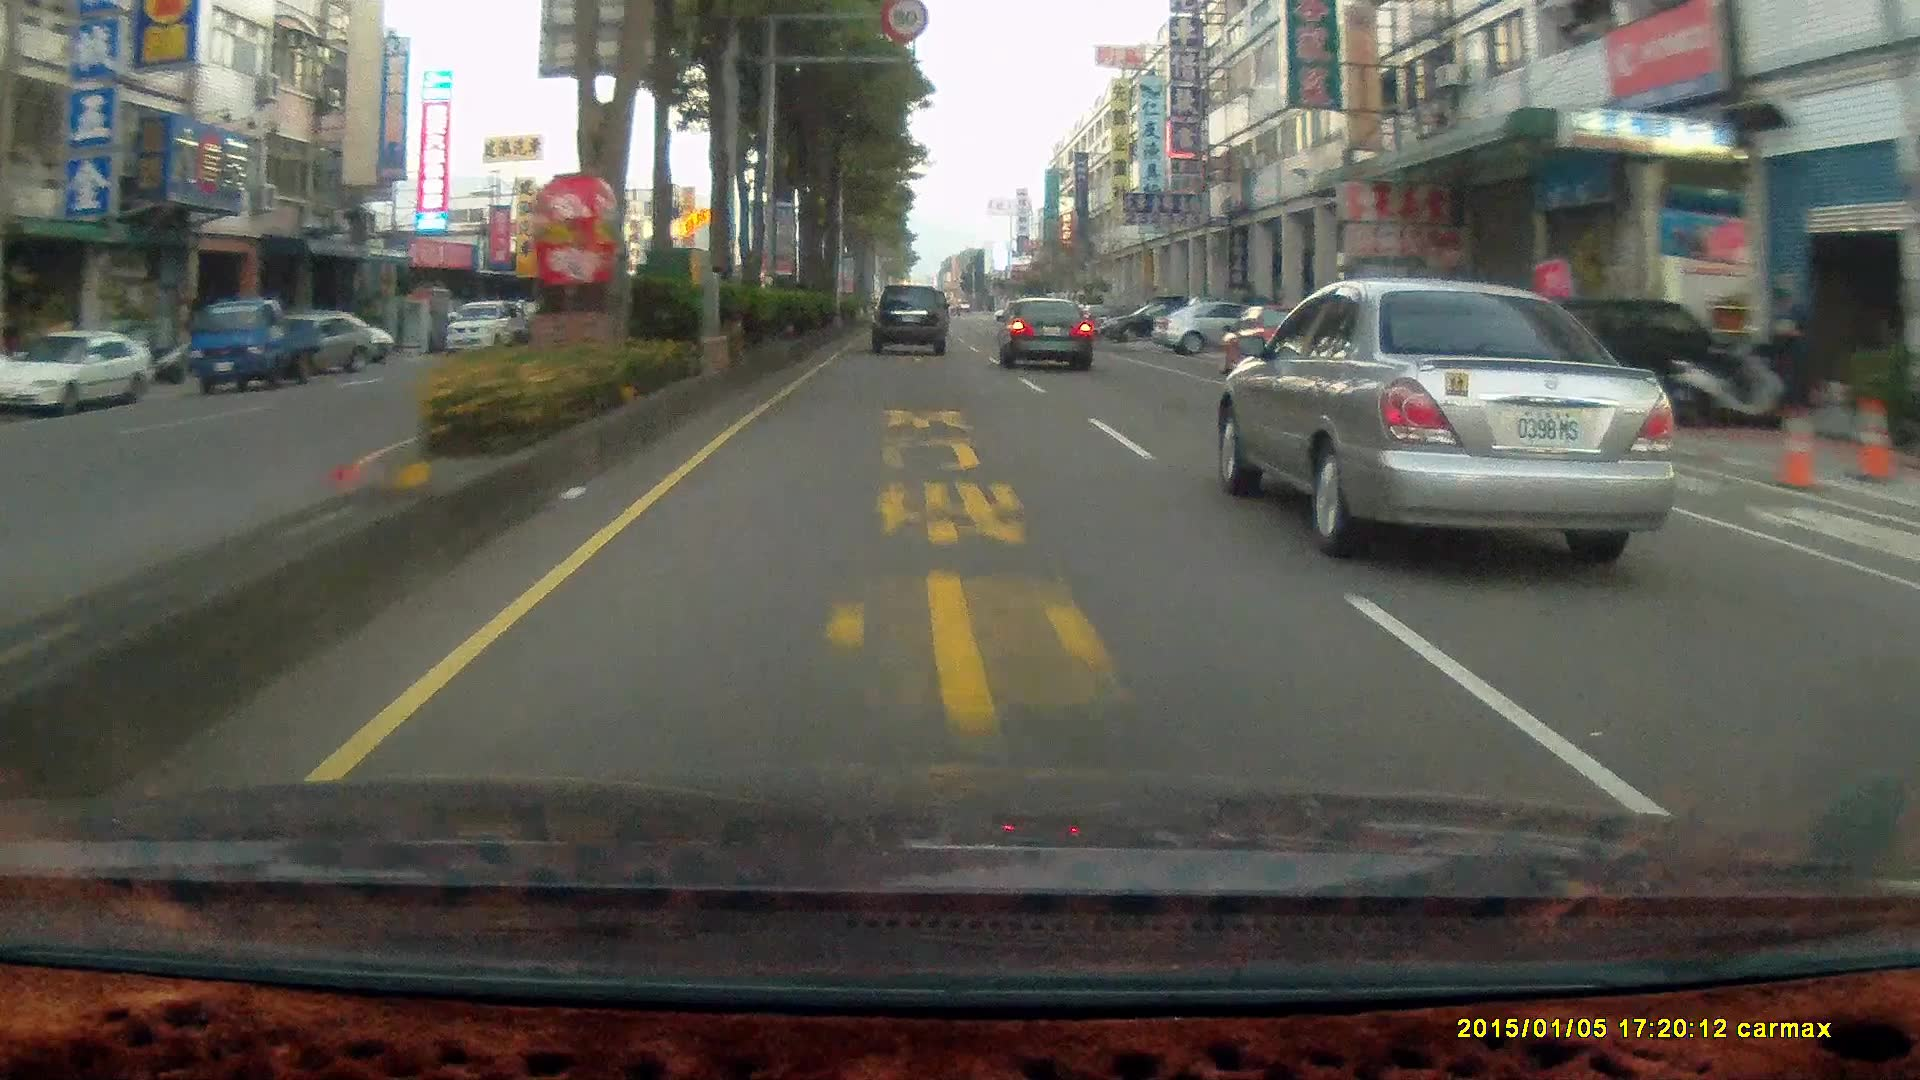vehicle: (1226, 286, 1700, 564), (1493, 290, 1729, 429), (1493, 290, 1727, 429), (0, 328, 152, 419), (1, 328, 152, 415), (186, 297, 320, 393), (191, 305, 328, 396), (1232, 310, 1350, 396), (1218, 302, 1335, 385), (1151, 297, 1288, 355), (996, 295, 1093, 372), (253, 313, 373, 375), (1000, 301, 1096, 377), (869, 284, 951, 357), (869, 286, 949, 356), (1101, 299, 1203, 342), (442, 301, 518, 356)
